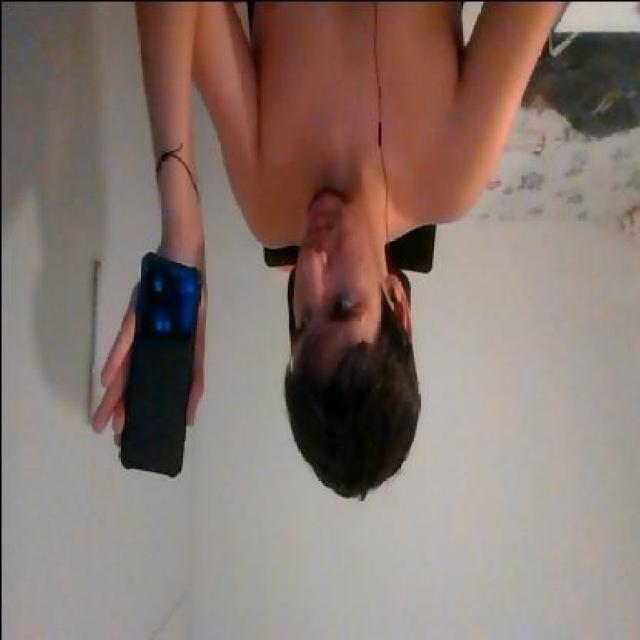phone: (116, 242, 199, 479)
